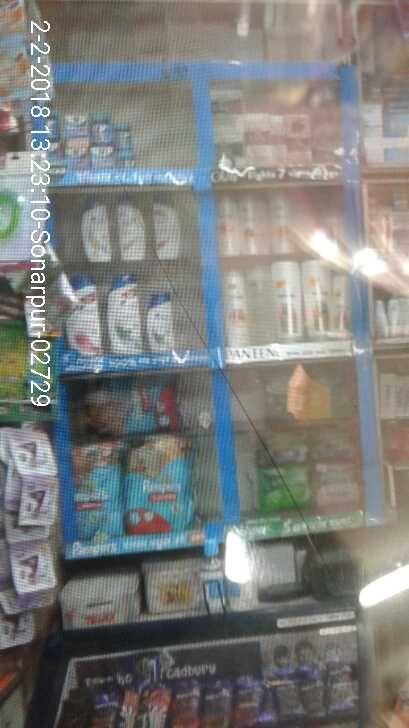vicks: (64, 114, 140, 171)
